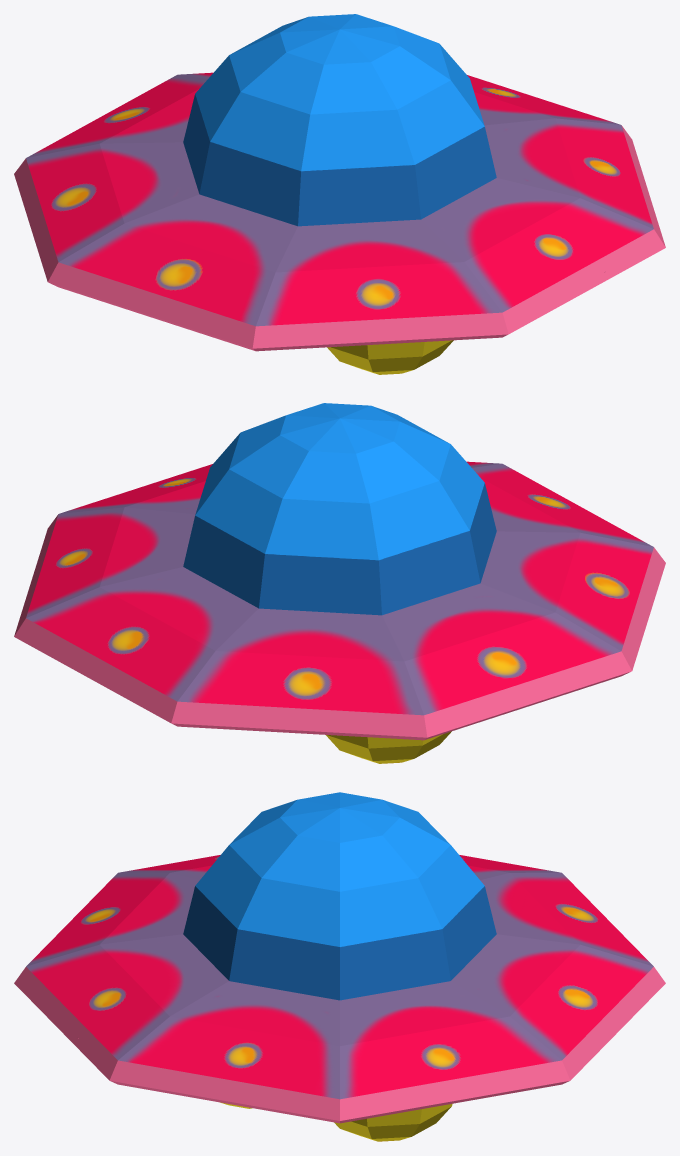
Rendered from OVNI 1.fbx.
3 views of the same model, one above another, from view 1: azimuth 30°, elevation 25°; view 2: azimuth 150°, elevation 25°; view 3: azimuth 270°, elevation 25° (orthographic). The views are drawn at different scales.
Visible parts, largest first — view 1: Nave; view 2: Nave; view 3: Nave.
Part boxes in pixels (box(x1,y1,x2,y2)): Nave: box(14, 14, 665, 374); Nave: box(14, 403, 665, 763); Nave: box(14, 792, 665, 1141).
Bounding box in the file's own units: 874 × 434 × 874.
1 material, 1 textured.
